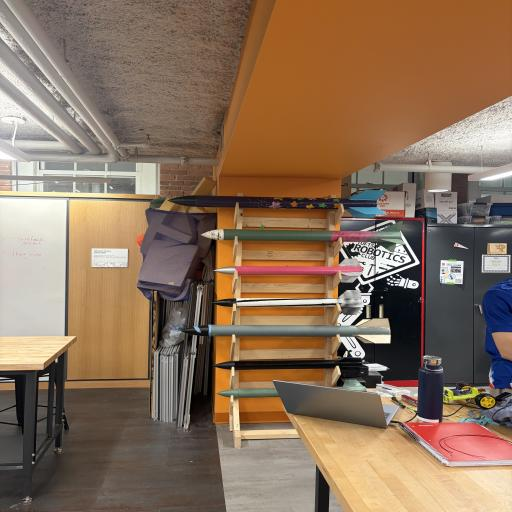Green-Lego: (260, 225, 264, 230)
